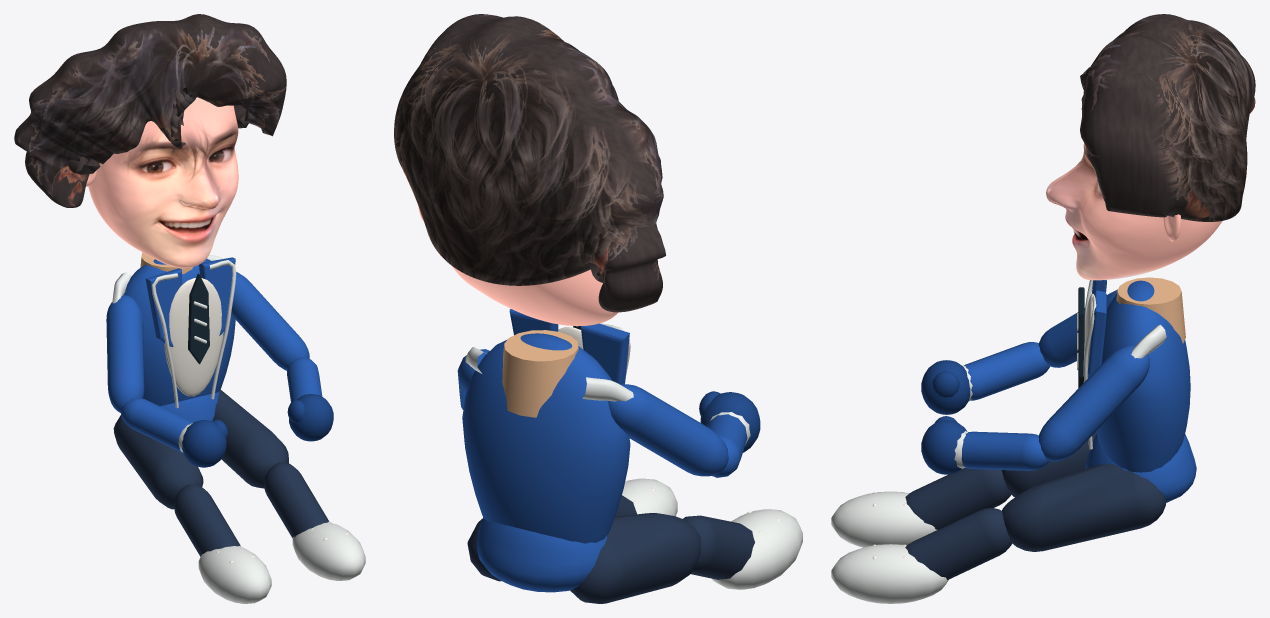
Rendered from boy.glb.
3 views of the same model, side by side, from view 1: azimuth 30°, elevation 25°; view 2: azimuth 150°, elevation 25°; view 3: azimuth 270°, elevation 25° (orthographic). The views are drawn at different scales.
Parts seen in each view (by area): view 1: Driver_boy, PortraitHair_boy, PortraitVolumeFace, UpperArm_L, UpperArm_R, Forearm_L, Hand_L, Hand_R, Forearm_R; view 2: PortraitHair_boy, Driver_boy, UpperArm_L, PortraitVolumeFace, Hand_L, Forearm_L, UpperArm_R; view 3: Driver_boy, PortraitHair_boy, PortraitVolumeFace, UpperArm_R, Forearm_R, Forearm_L, Hand_L, Hand_R, UpperArm_L.
Boxes of the visible parts, left/top/right/bottom form: Driver_boy: left=112, top=252, right=365, bottom=603; PortraitHair_boy: left=14, top=14, right=286, bottom=207; PortraitVolumeFace: left=88, top=97, right=238, bottom=268; UpperArm_L: left=106, top=295, right=144, bottom=412; UpperArm_R: left=231, top=272, right=309, bottom=370; Forearm_L: left=121, top=397, right=193, bottom=452; Hand_L: left=182, top=419, right=228, bottom=467; Hand_R: left=287, top=394, right=333, bottom=441; Forearm_R: left=287, top=357, right=322, bottom=402; PortraitHair_boy: left=394, top=14, right=665, bottom=312; Driver_boy: left=462, top=309, right=802, bottom=603; UpperArm_L: left=608, top=384, right=728, bottom=476; PortraitVolumeFace: left=452, top=266, right=618, bottom=326; Hand_L: left=699, top=391, right=760, bottom=452; Forearm_L: left=707, top=412, right=750, bottom=477; UpperArm_R: left=457, top=349, right=489, bottom=409; Driver_boy: left=831, top=277, right=1196, bottom=603; PortraitHair_boy: left=1080, top=14, right=1255, bottom=221; PortraitVolumeFace: left=1046, top=143, right=1222, bottom=280; UpperArm_R: left=1038, top=345, right=1149, bottom=461; Forearm_R: left=954, top=431, right=1049, bottom=470; Forearm_L: left=962, top=342, right=1049, bottom=400; Hand_L: left=921, top=360, right=970, bottom=414; Hand_R: left=921, top=416, right=967, bottom=474; UpperArm_L: left=1038, top=289, right=1117, bottom=367.
Bounding box in the file's own units: 1.4 × 2.84 × 1.98.
11 materials, 2 textured.
